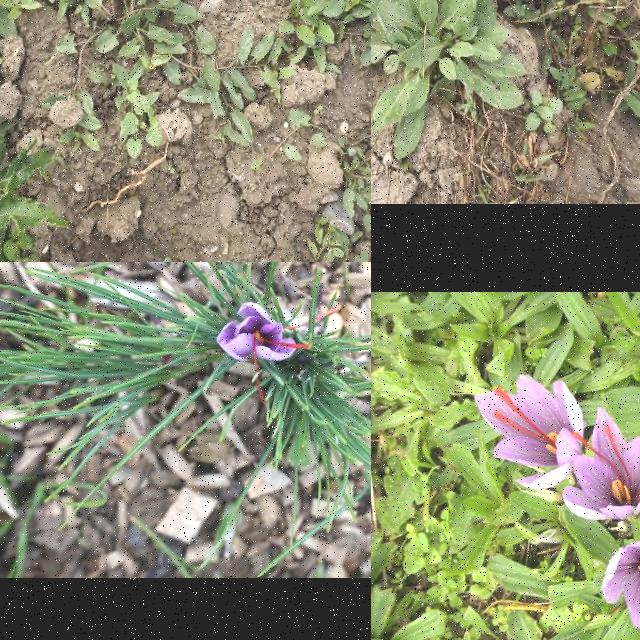flower: (216, 302, 342, 408), (473, 374, 585, 491), (563, 407, 640, 521), (600, 538, 640, 640)
